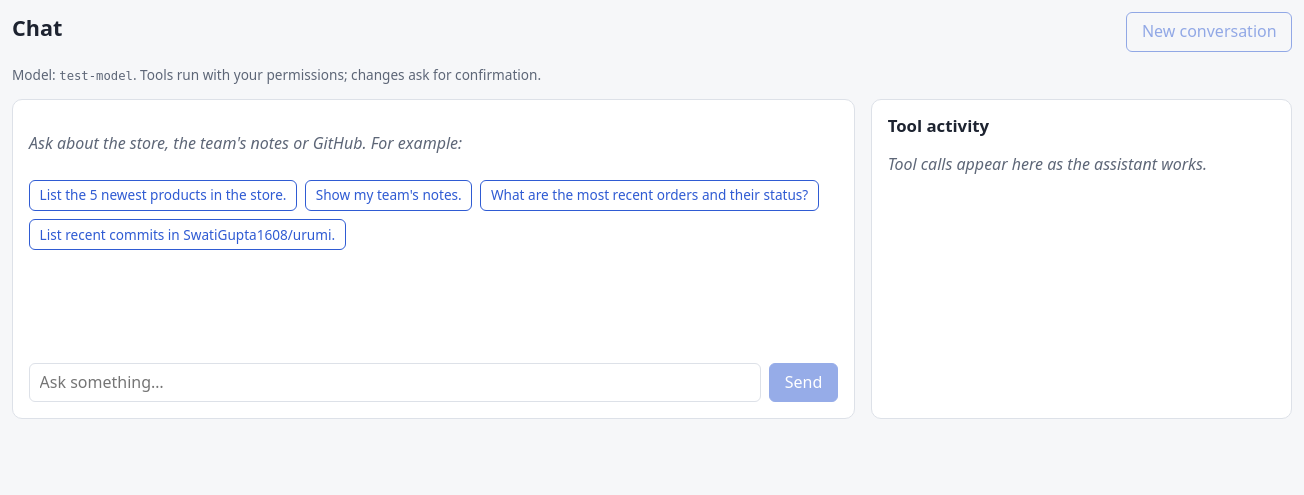
Test: chat page › shows provider and gateway errors and keeps the unsent text
The image size is (1304, 495).
Type "list products" into the field named "Message" at [395, 383], box 29,363 -> 761,402
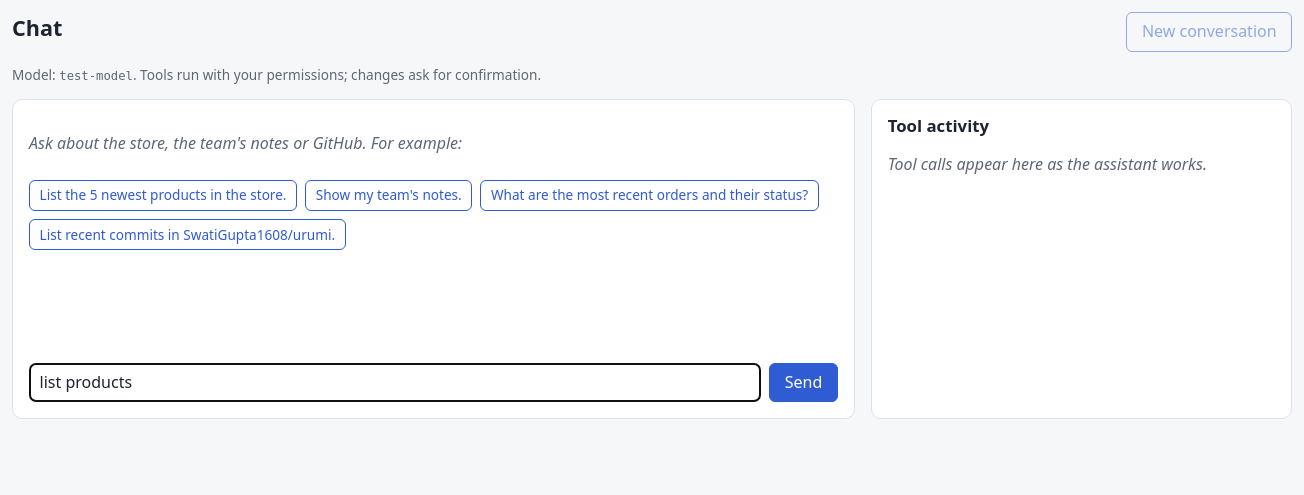
Click the button "Send" at [803, 383], box 769,363 -> 838,402
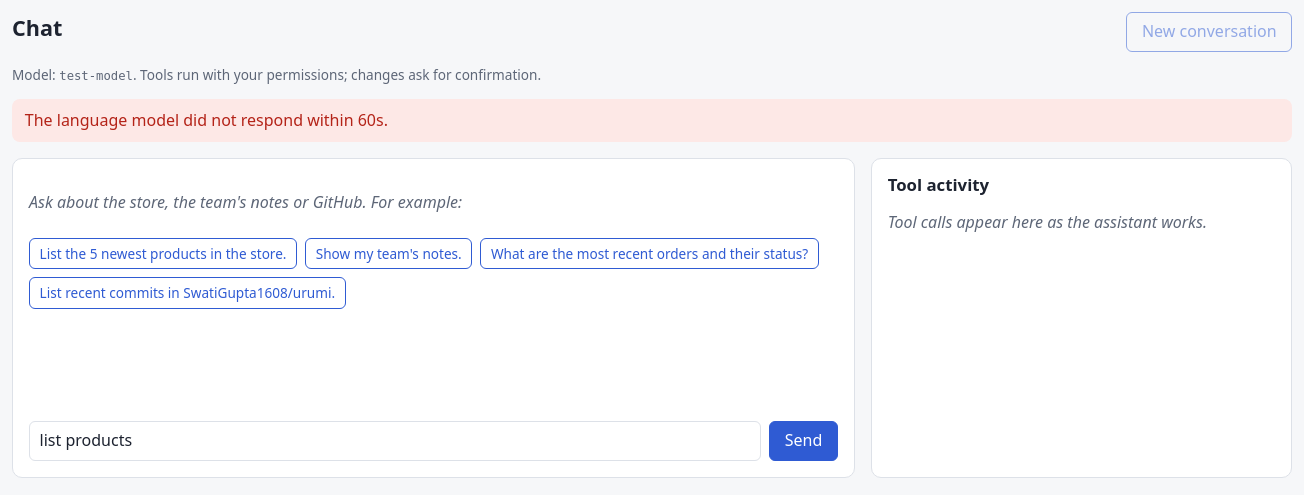
Expected: the message shows "did not respond within 60s", 25,109 -> 388,131
